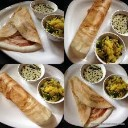dosa: (1, 71, 53, 126), (67, 75, 116, 128), (72, 1, 108, 59), (1, 5, 42, 49)
